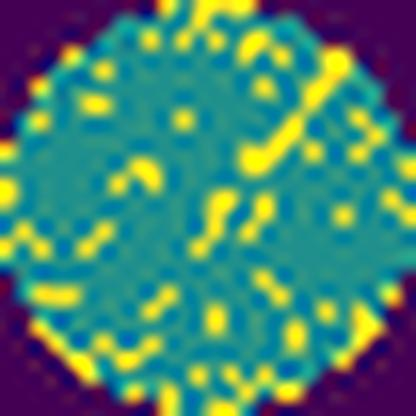Scratch: (236, 48, 348, 179)
